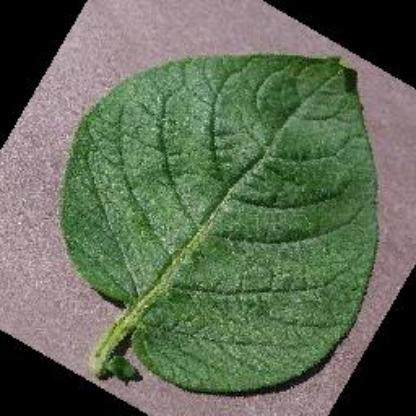Healthy-plant: (50, 26, 391, 403)
